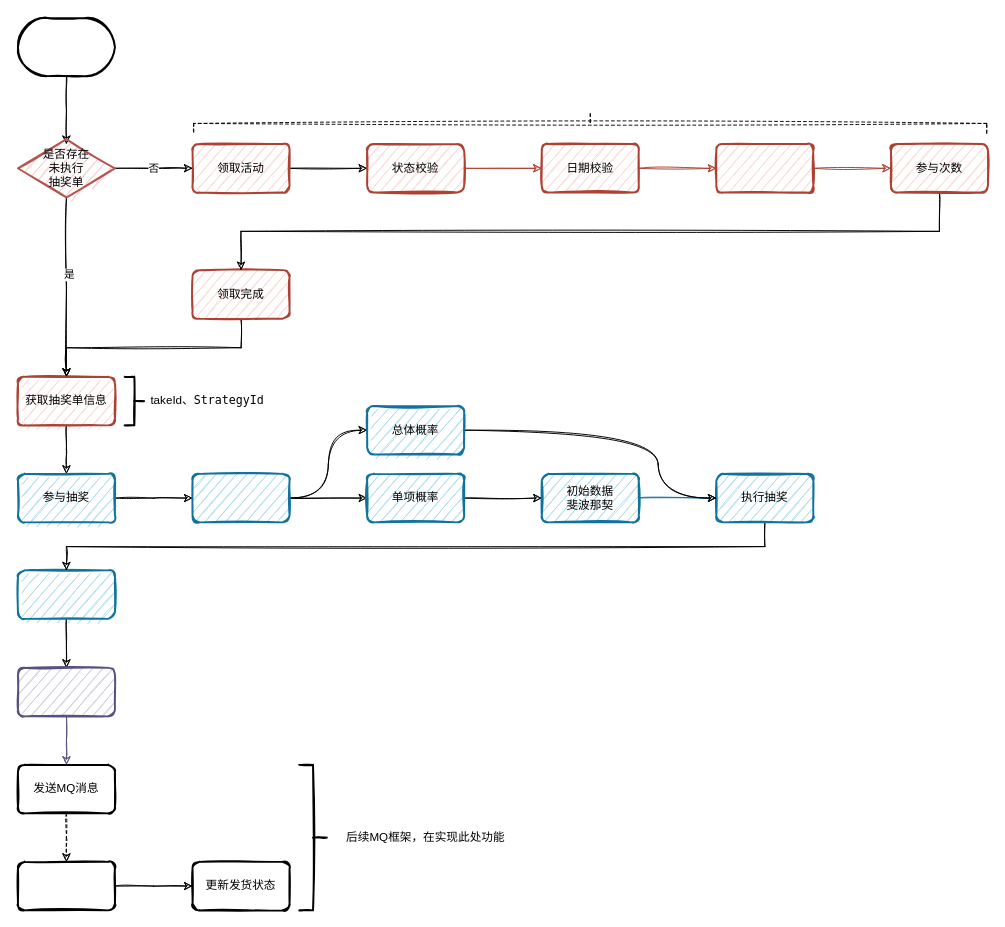
Image size: 1005x927. Some labels were removed from this diagram. The shapes that lost their labels are listed below. From the top down, each one's centre as x and y in pixels, then its label:
point 65,46: 开始
point 590,123: 查询活动账单，并校验信息
point 764,168: 库存校验(总)
point 240,497: 抽奖策略
point 65,594: 抽奖结果 奖品ID🏅
point 65,691: 奖品落库
point 65,885: 触发奖品发货
